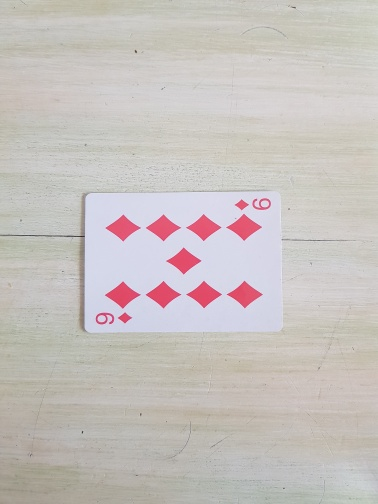nine: (81, 191, 285, 335)
